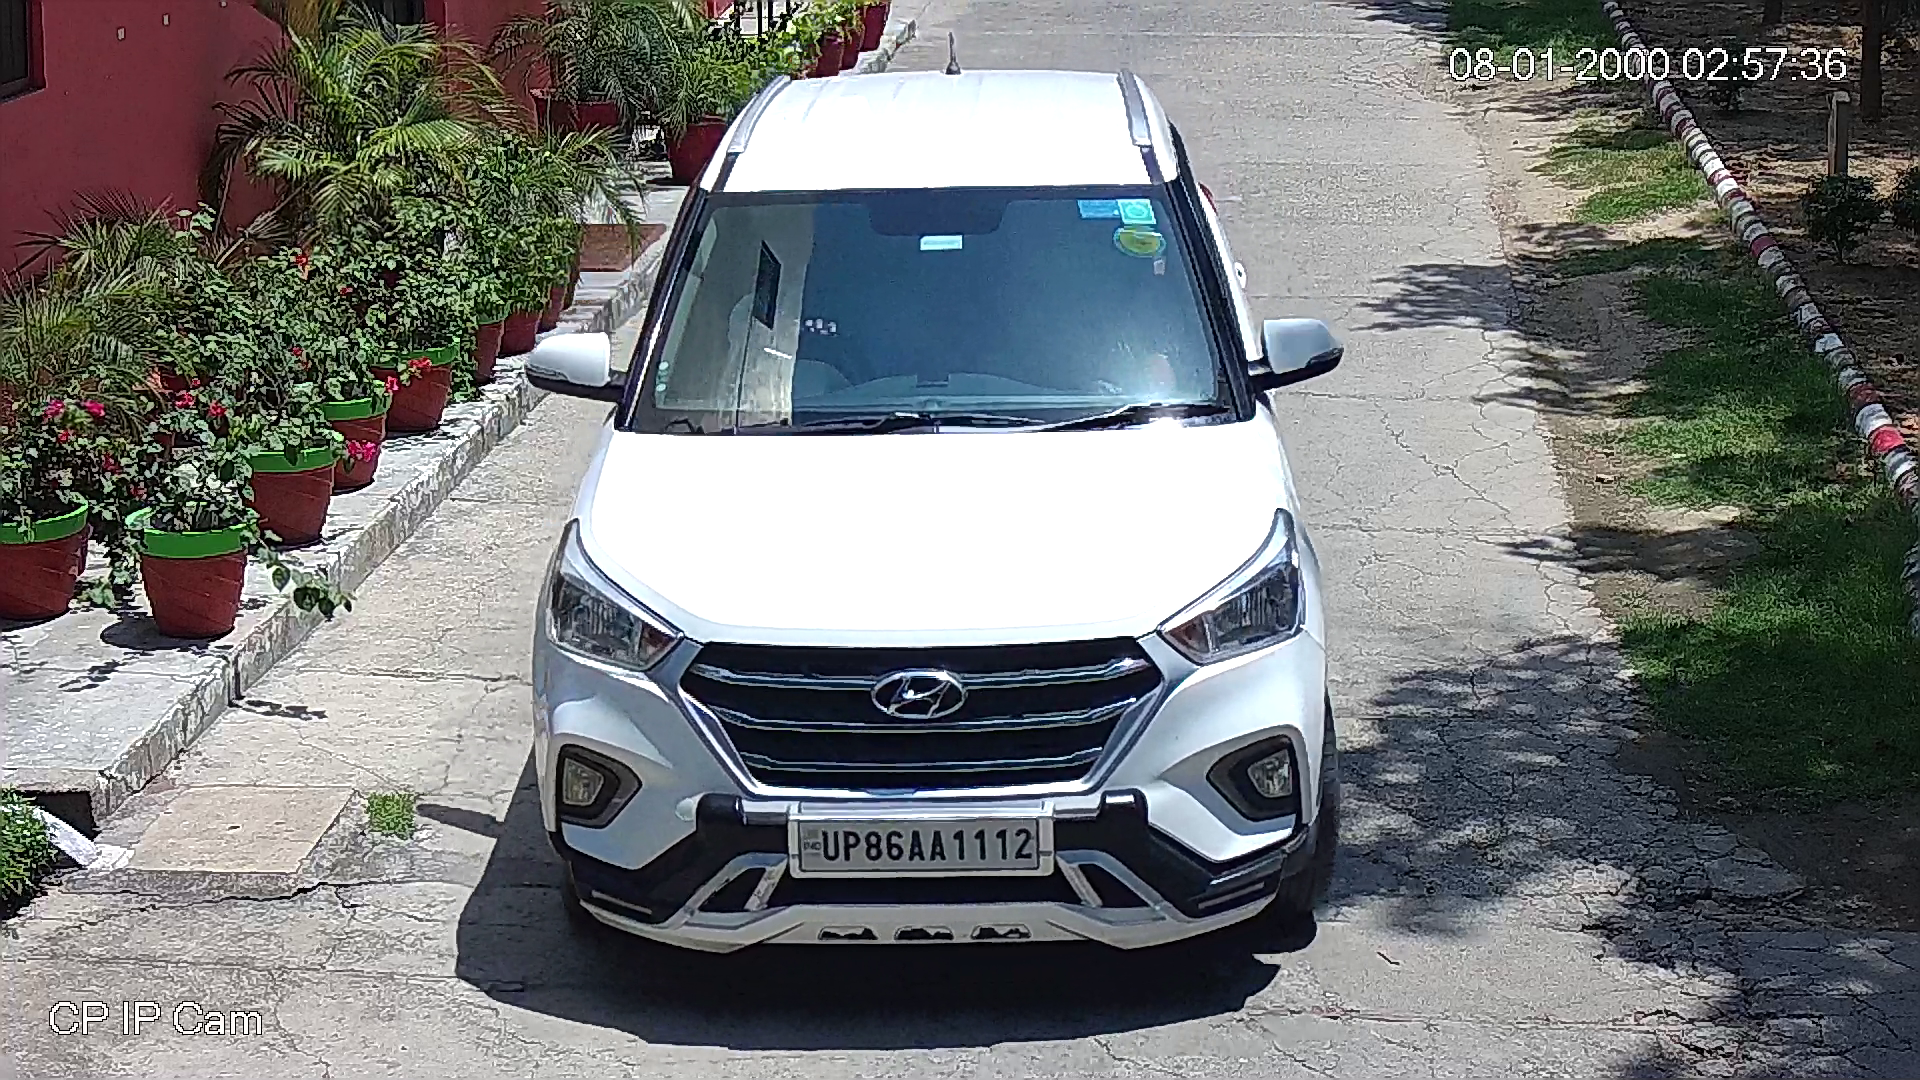plate: (789, 815, 1057, 884)
